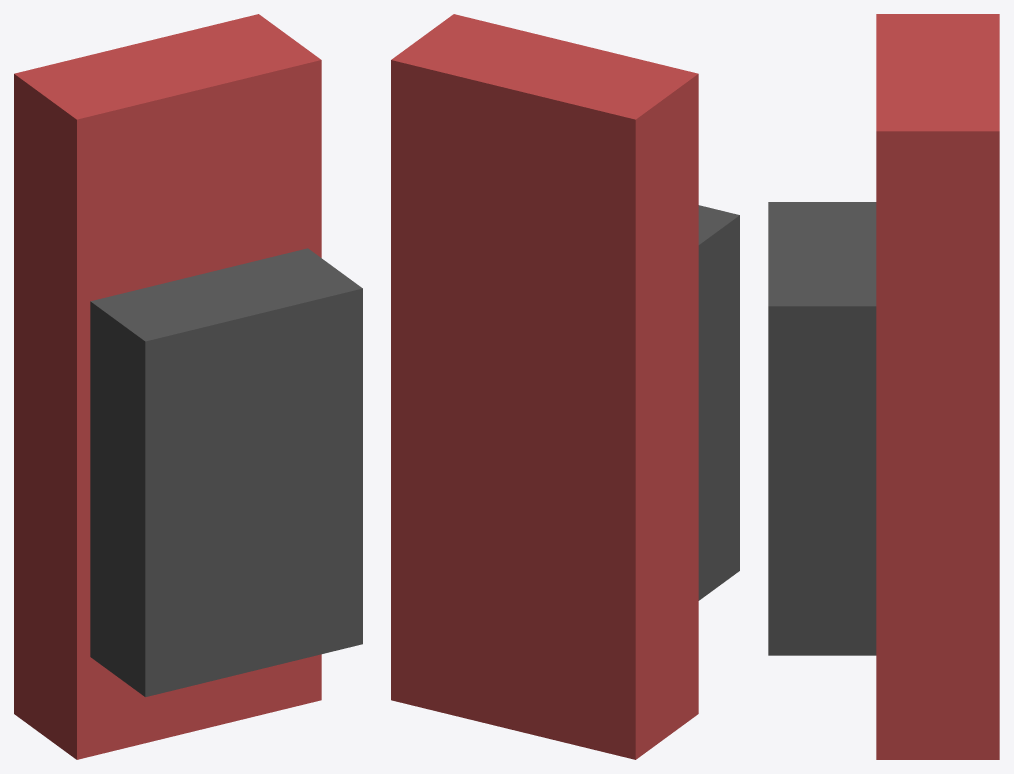
File: car.glb
The picture shows the model from 3 angles, left to right: view 1: azimuth 30°, elevation 25°; view 2: azimuth 150°, elevation 25°; view 3: azimuth 270°, elevation 25°; orthographic projection.
Parts seen in each view (by area): view 1: geometry_0; view 2: geometry_0; view 3: geometry_0.
Boxes of the visible parts, left/top/right/bottom form: geometry_0: left=14, top=14, right=362, bottom=759; geometry_0: left=391, top=14, right=739, bottom=759; geometry_0: left=768, top=14, right=999, bottom=759.
Bounding box in the file's own units: 1.8 × 4.5 × 1.5.
